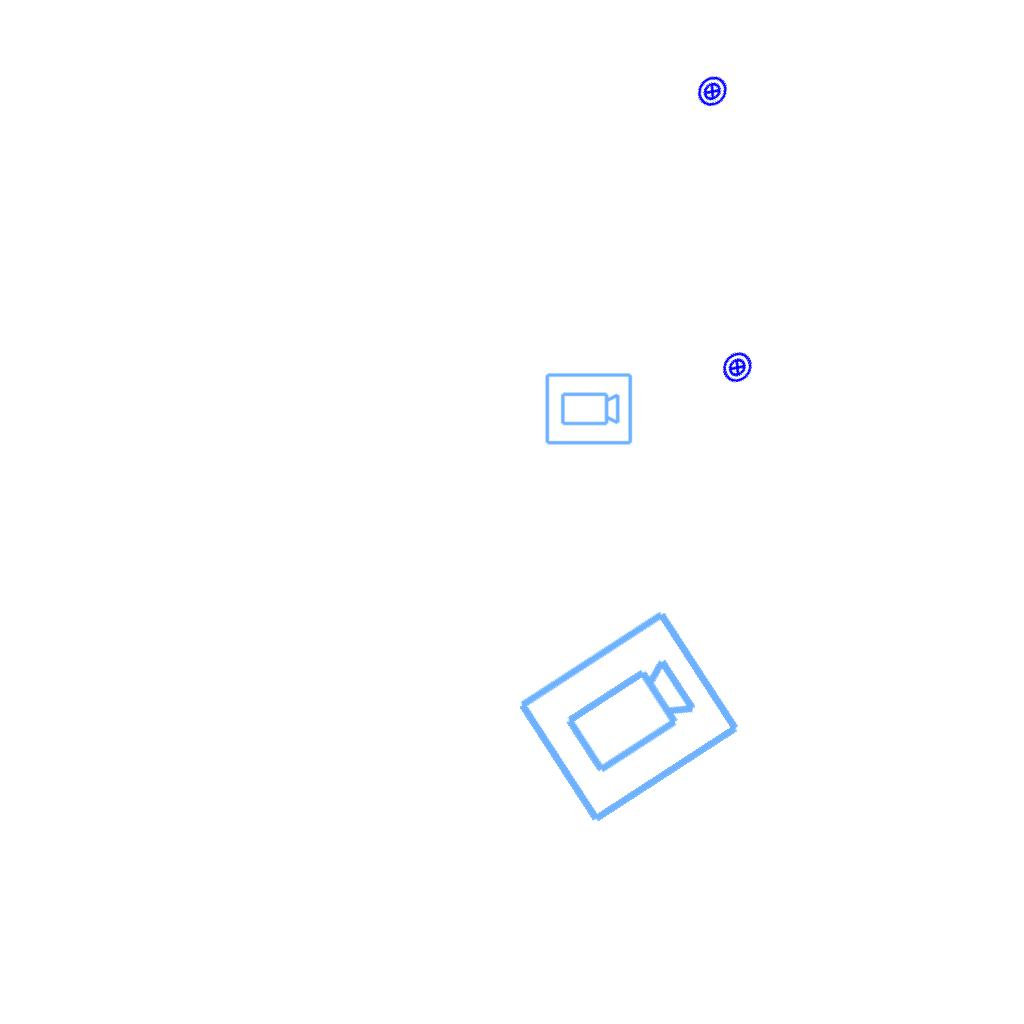KFO_Kamera_mit_Festobjektiv: (510, 603, 748, 833), (543, 371, 634, 448)
Taster_beleuchtet: (689, 68, 736, 115), (714, 344, 761, 391)
